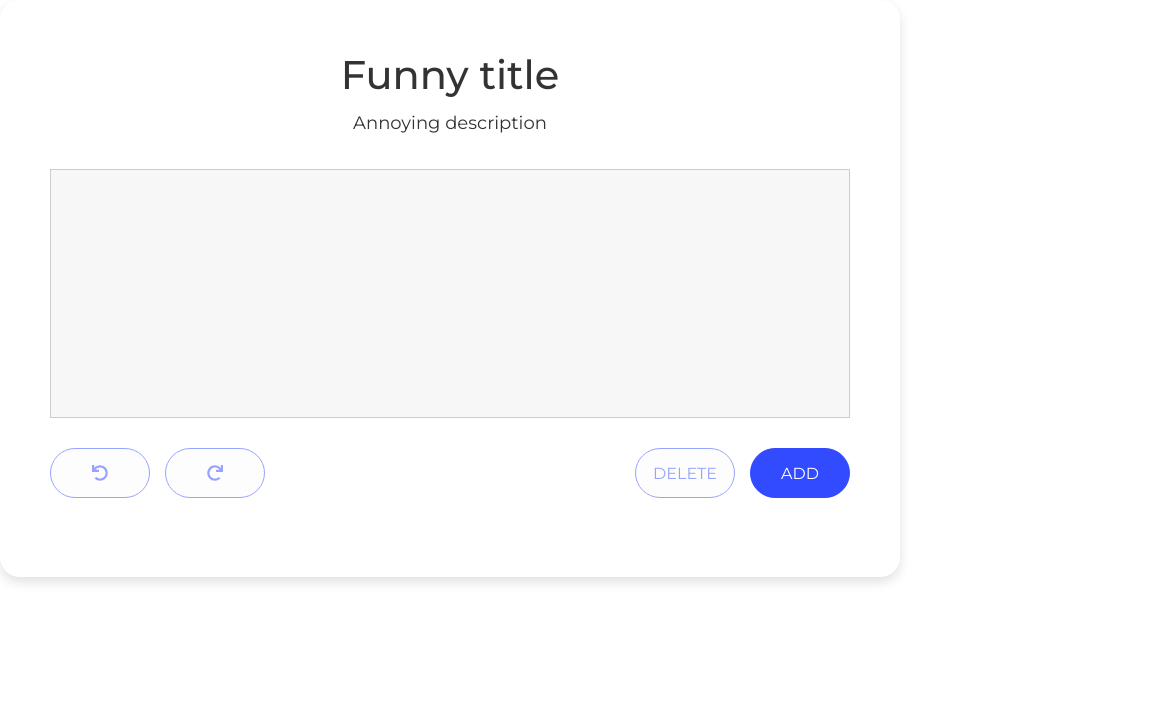
Scenario: StringList › adds an item only after providing text through the prompt
Click the button "ADD".
click(800, 473)  # box [750,448,850,498]
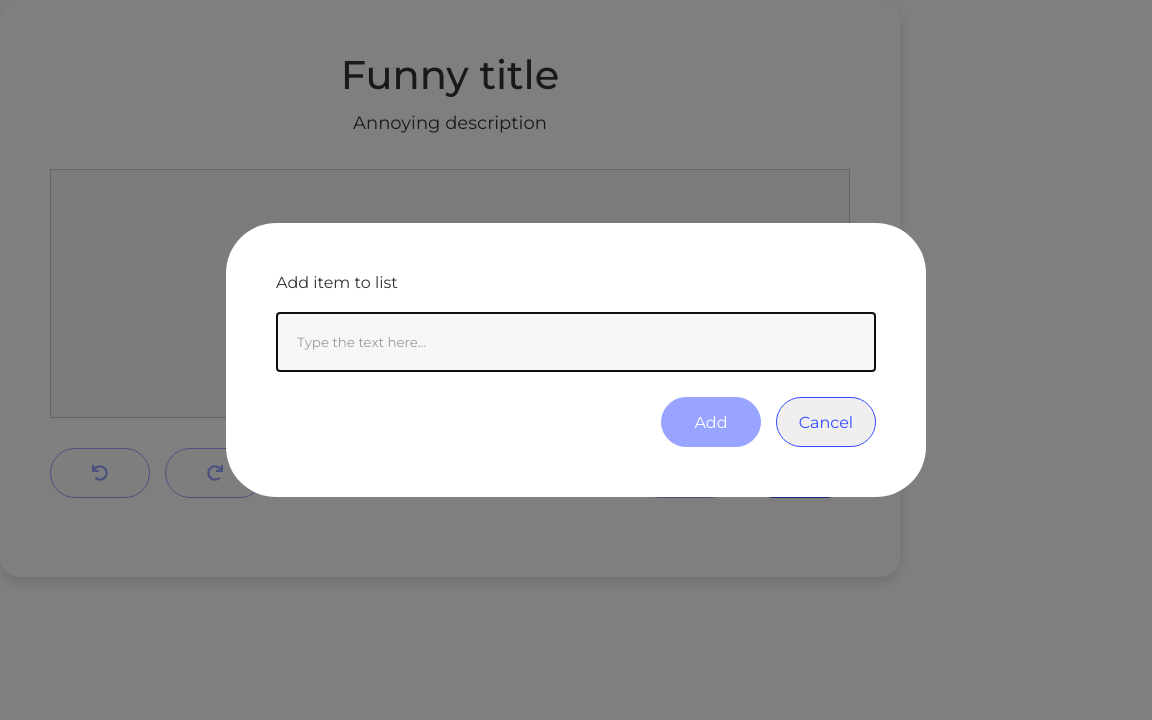
Now the button "Add" is disabled, box [661,397,761,447]
Type "First task" into the field with placeholder "Type the text here...".
click(576, 342); type("First task")  # box [276,312,876,372]
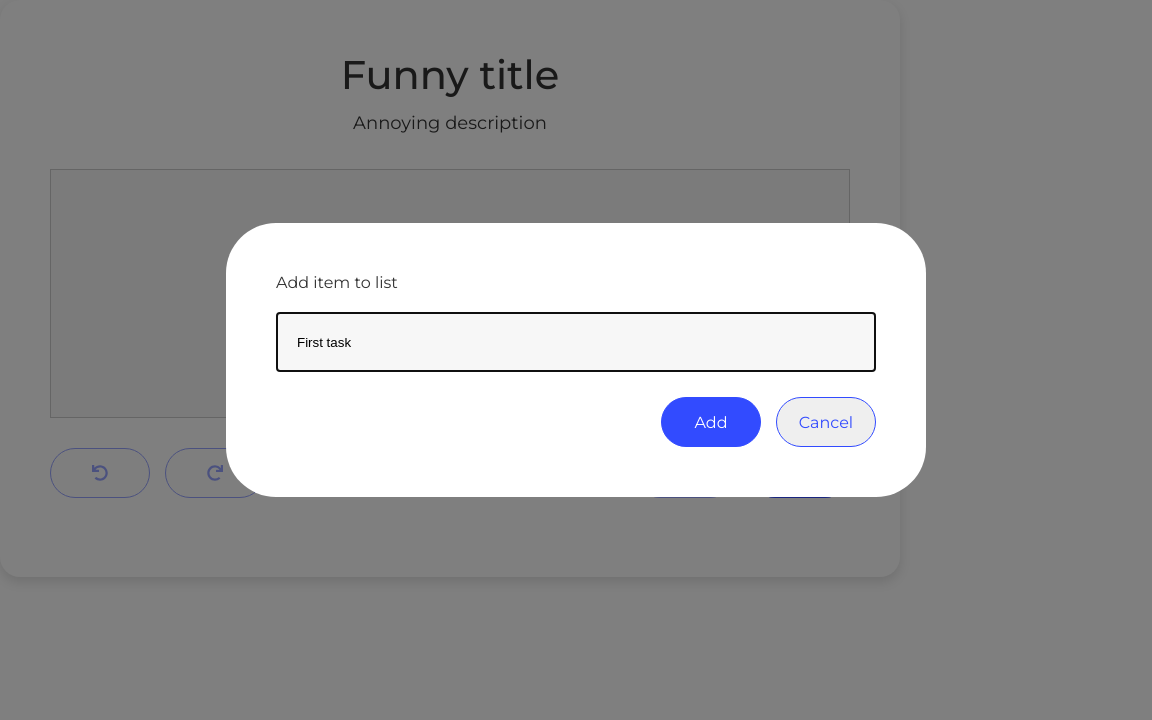
Now the button "Add" is enabled
Click the button "Add".
click(711, 422)  # box [661,397,761,447]
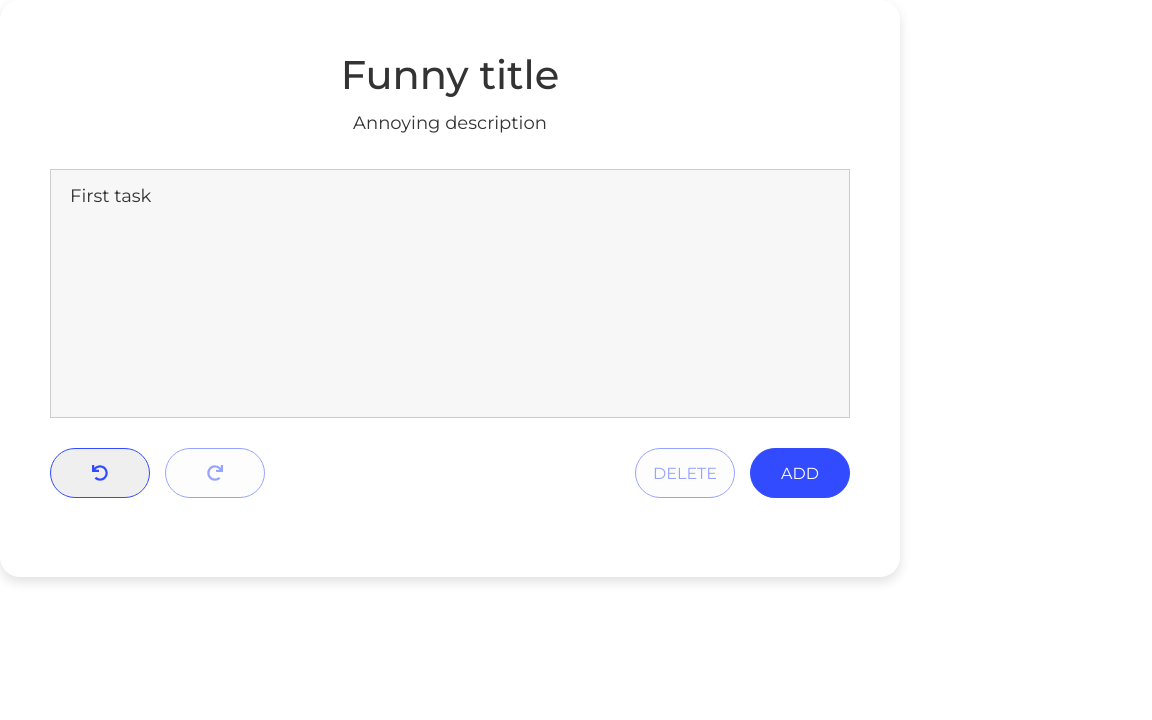
Now the text "Add item to list" is gone
Now the text "First task" is shown, box [70,185,151,207]
